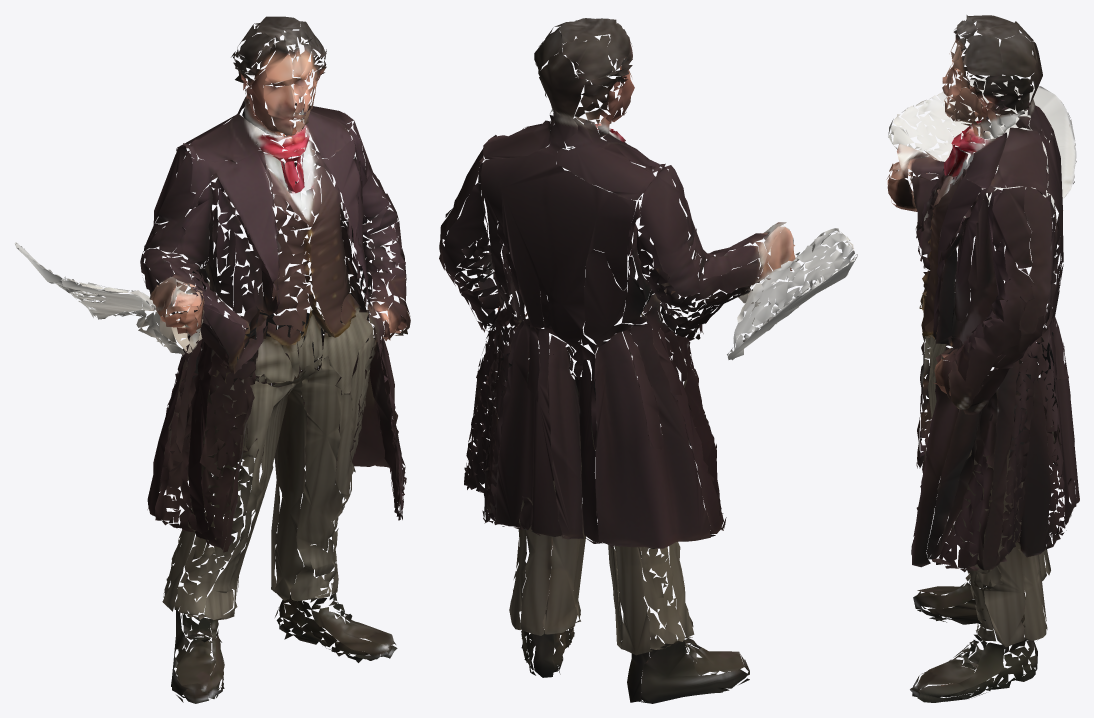
Rendered from char_actor_m2.glb.
3 renders of one model, left to right at view 1: azimuth 30°, elevation 25°; view 2: azimuth 150°, elevation 25°; view 3: azimuth 270°, elevation 25°, orthographic. The views are drawn at different scales.
Parts seen in each view (by area): view 1: geometry_0; view 2: geometry_0; view 3: geometry_0.
Boxes of the visible parts, x1,y1,x2,y2 form: geometry_0: (14,16,410,703); geometry_0: (439,18,857,703); geometry_0: (886,15,1079,702).
Size of the model in its own units: 1.14 by 1.81 by 0.4938.
1 material, 1 textured.
